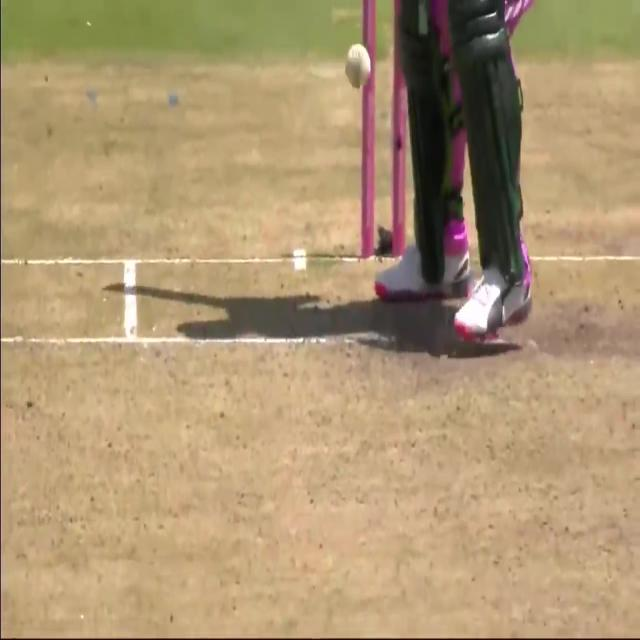Ball: (377, 0, 559, 348)
Batsman: (343, 36, 372, 94)
